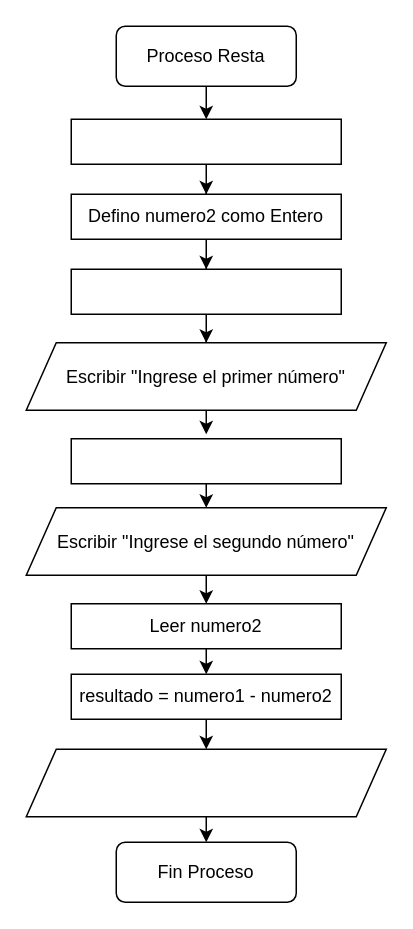
Some shapes in this 413 by 929 pixel diagram are drawn without their labels. The shapes that lost their labels are listed below. From the top down, each one's centre as x and y in pixels, then its label:
pixel 205 141: Defino numero1 como Entero
pixel 205 291: Defino resultado como Entero
pixel 205 460: Leer numero1
pixel 205 782: Escribir "El resultado es: " + resultado
